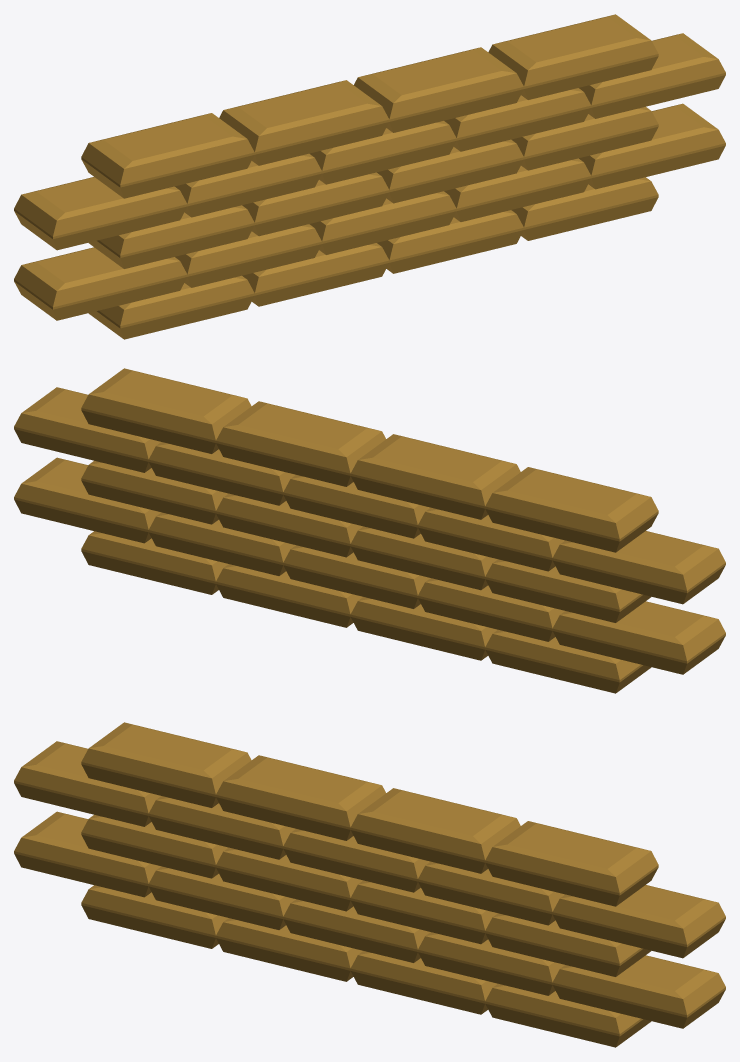
File: Sand Bags Wall 2.fbx
3 views of the same model, one above another, from view 1: azimuth 30°, elevation 25°; view 2: azimuth 150°, elevation 25°; view 3: azimuth 330°, elevation 25° (orthographic).
Visible parts, largest first — view 1: Sand Bags Wall 2; view 2: Sand Bags Wall 2; view 3: Sand Bags Wall 2.
Part boxes in pixels (x1,y1,x2,y2): Sand Bags Wall 2: (14, 14, 725, 339); Sand Bags Wall 2: (14, 368, 725, 693); Sand Bags Wall 2: (14, 722, 725, 1047).
Size of the model in its own units: 1000 by 250 by 100.
